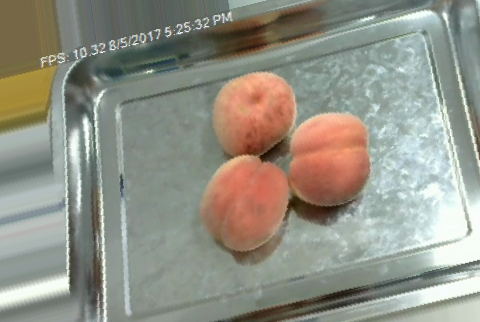Peach: (200, 156, 288, 250), (289, 108, 368, 206), (213, 70, 296, 158)
